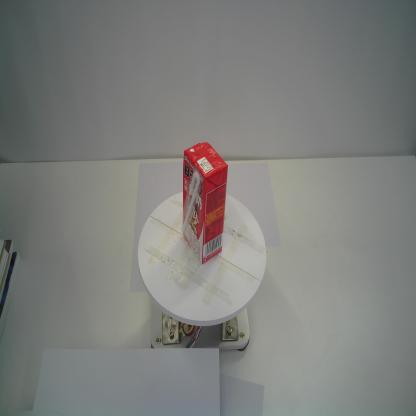Milk: (180, 139, 228, 268)
